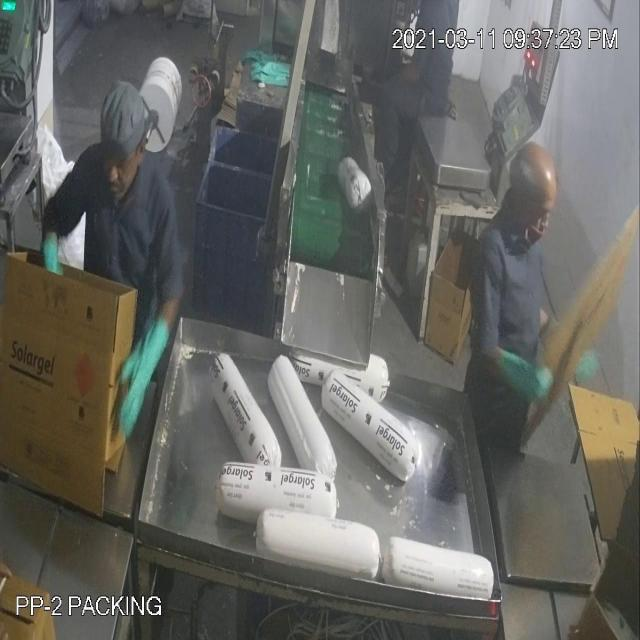Gloves: (60, 92, 524, 376)
